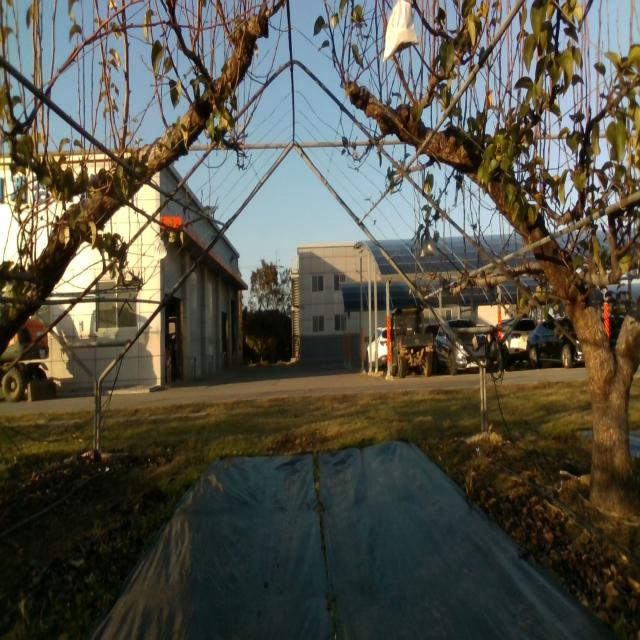pearbags: (382, 0, 418, 64), (420, 235, 438, 259), (154, 239, 167, 262)
